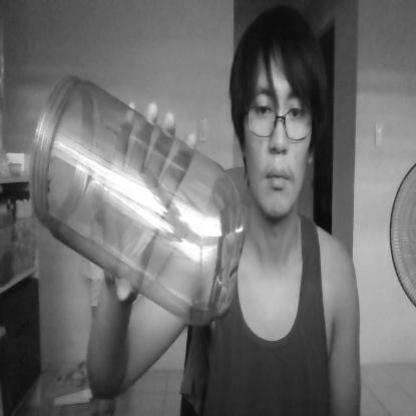Plastic Bottle: (27, 72, 251, 342)
